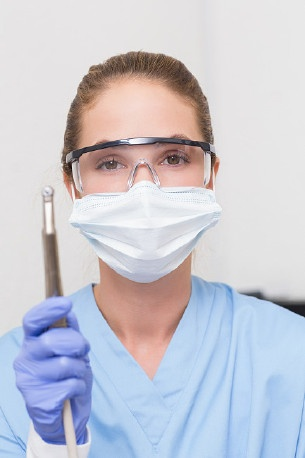Mask: (61, 120, 227, 286)
